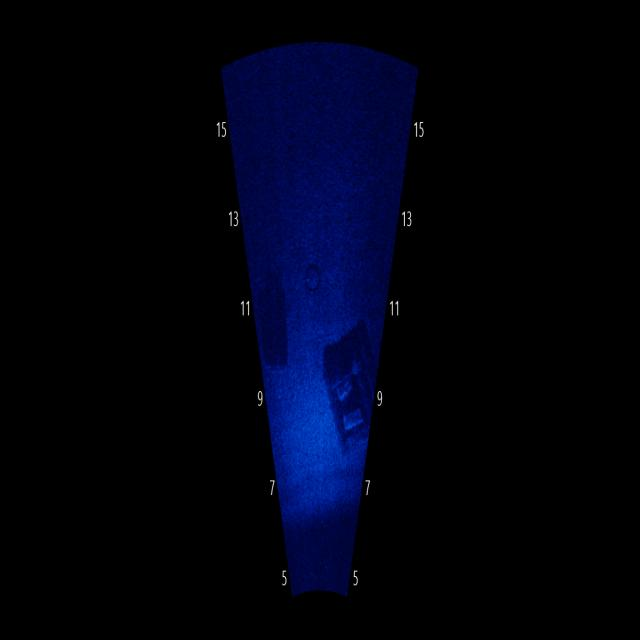square: (308, 333, 391, 468), (250, 253, 300, 381)
